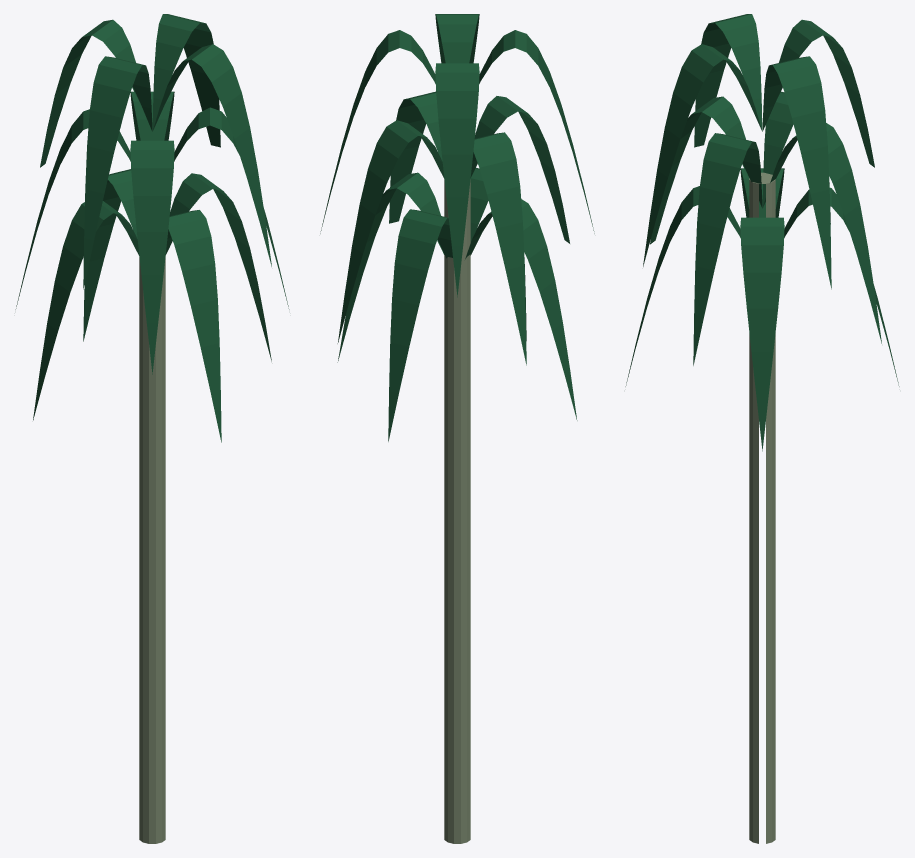
Rendered from fan-tree.glb.
3 views of the same model, side by side, from view 1: azimuth 30°, elevation 25°; view 2: azimuth 150°, elevation 25°; view 3: azimuth 270°, elevation 25° (orthographic).
Bounding box in the file's own units: 1.96 × 6.24 × 1.96.
